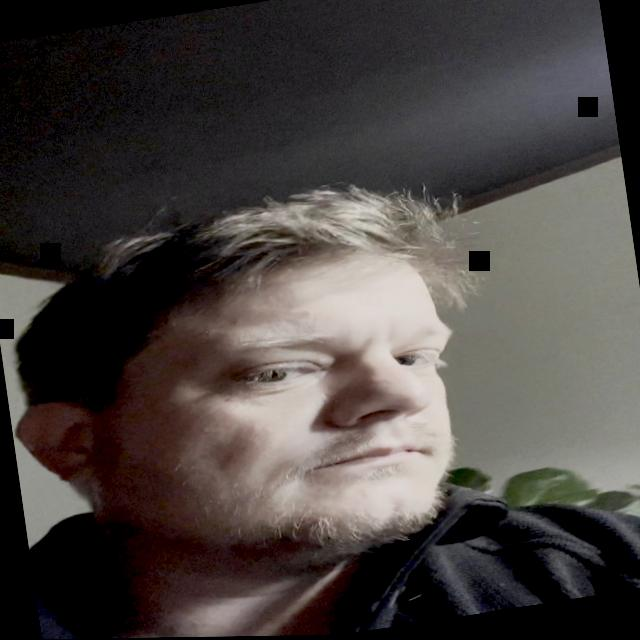NO-Mask: (16, 175, 510, 623)
